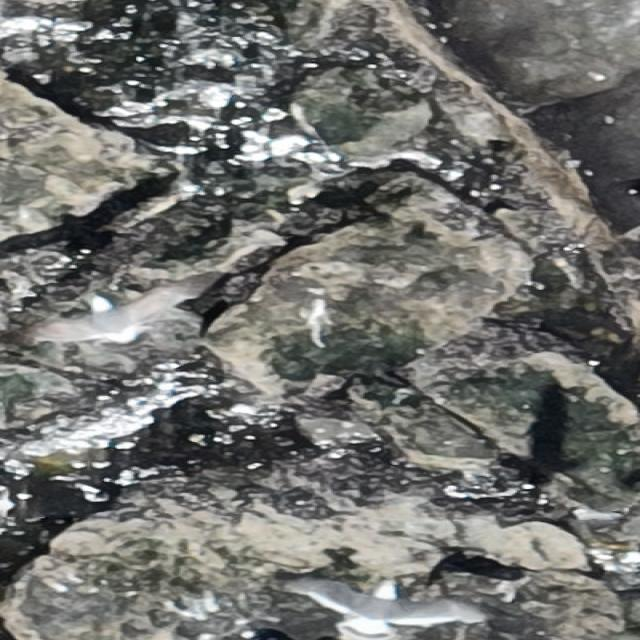F: (34, 278, 198, 346), (298, 577, 464, 639)
